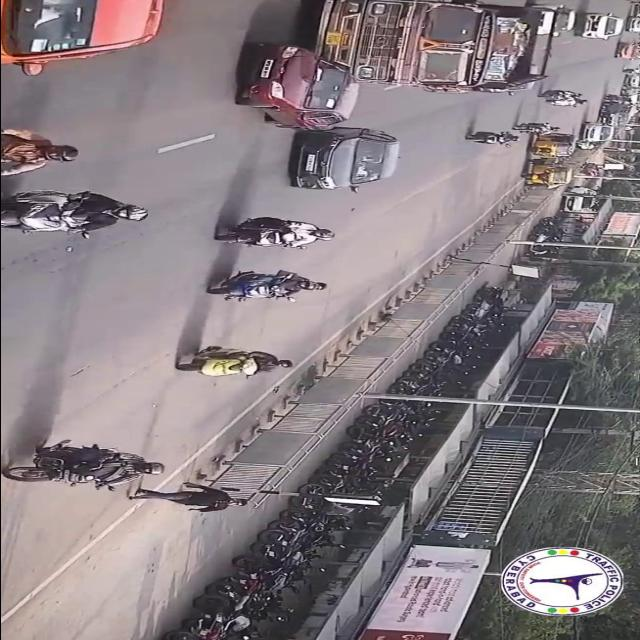accident: (218, 0, 562, 133)
non_accident: (577, 96, 635, 152), (535, 86, 588, 110)
